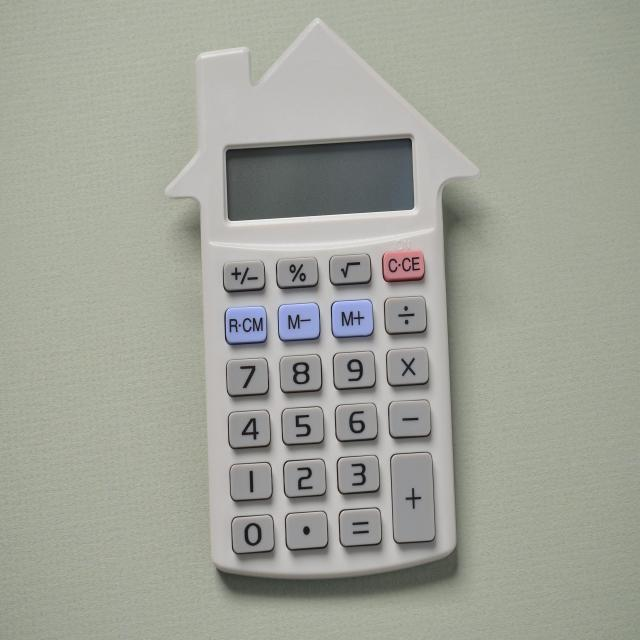Calculator: (130, 0, 537, 620)
